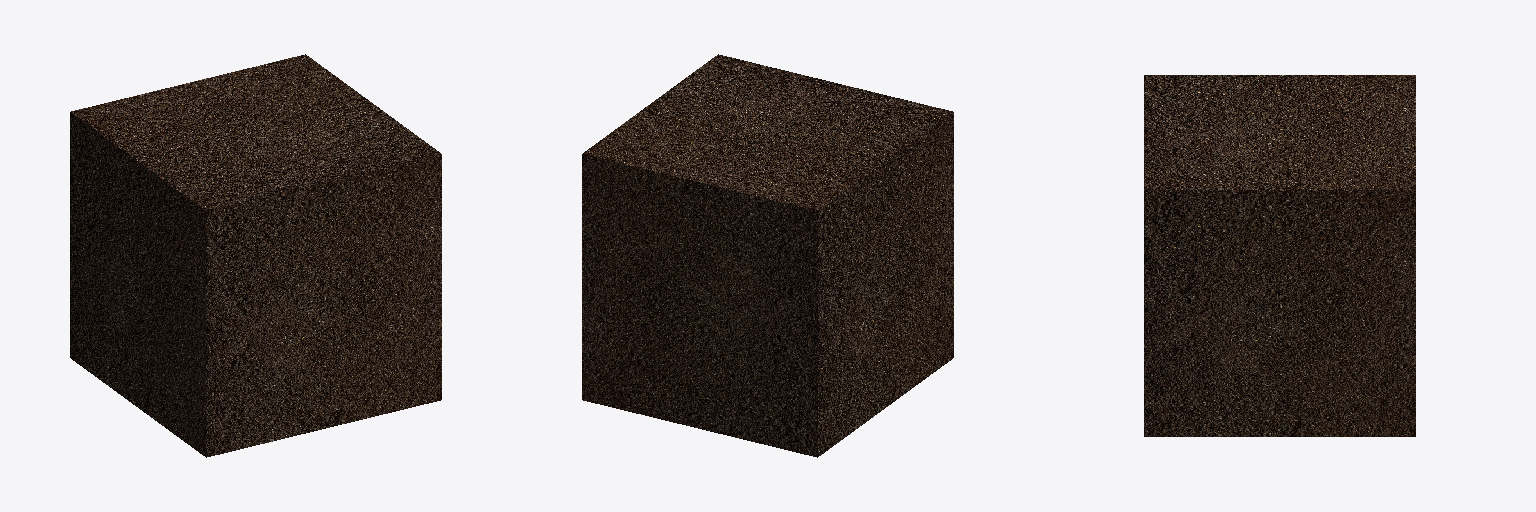
3 views of the same model, side by side, from view 1: azimuth 30°, elevation 25°; view 2: azimuth 150°, elevation 25°; view 3: azimuth 270°, elevation 25° (orthographic).
Parts seen in each view (by area): view 1: Cube; view 2: Cube; view 3: Cube.
Part boxes in pixels (left/top/right/bottom): Cube: left=70, top=54, right=441, bottom=457; Cube: left=582, top=54, right=953, bottom=457; Cube: left=1144, top=75, right=1415, bottom=436.
Size of the model in its own units: 0.1 by 0.1 by 0.1.
1 materials, 1 textured.